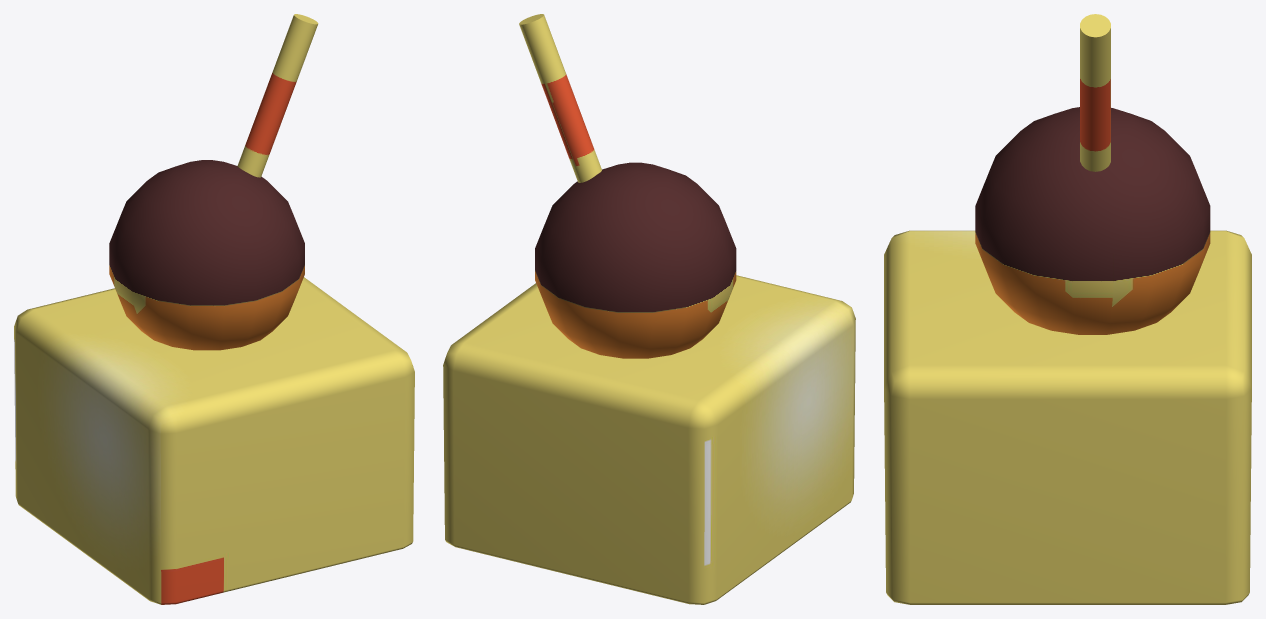
The model's file is cake_shi.FBX.
3 renders of one model, left to right at view 1: azimuth 30°, elevation 25°; view 2: azimuth 150°, elevation 25°; view 3: azimuth 270°, elevation 25°, orthographic. The views are drawn at different scales.
Parts seen in each view (by area): view 1: di1, Sphere001, Cylinder001; view 2: di1, Sphere001, Cylinder001; view 3: di1, Sphere001, Cylinder001.
Part boxes in pixels (<box>): di1: <box>14,277,414,604</box>; Sphere001: <box>109,160,304,350</box>; Cylinder001: <box>237,14,318,177</box>; di1: <box>443,275,855,604</box>; Sphere001: <box>535,162,736,358</box>; Cylinder001: <box>519,14,601,182</box>; di1: <box>884,230,1251,604</box>; Sphere001: <box>975,107,1210,334</box>; Cylinder001: <box>1080,14,1110,171</box>.
Bounding box in the file's own units: 19.87 × 33.97 × 19.87.
